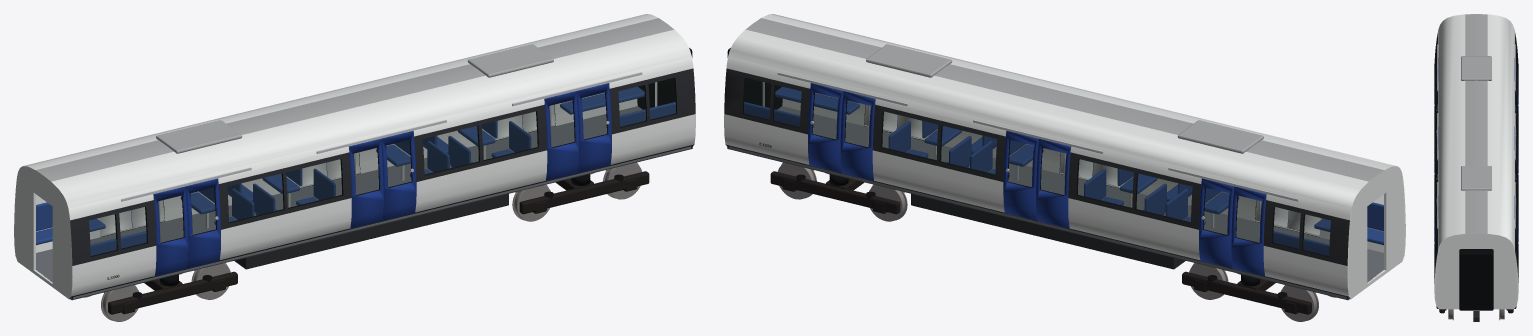
Rendered from mf77_car.glb.
3 renders of one model, left to right at view 1: azimuth 30°, elevation 25°; view 2: azimuth 150°, elevation 25°; view 3: azimuth 270°, elevation 25°, orthographic. The views are drawn at different scales.
Parts seen in each view (by area): view 1: METRO_MF77_IDFM-5voit_V2_Caisse, METRO_MF77_IDFM-5voit_V2_BaieG1, METRO_MF77_IDFM-5voit_V2_PorteD1_AV.002 (×3), METRO_MF77_IDFM-5voit_V2_PorteD1_AR.002 (×3), METRO_MF77_IDFM-5voit_V2_PorteD2_AR_Vitre, METRO_MF77_IDFM-5voit_V2_PorteD3_AV_Vitre, METRO_MF77_IDFM-5voit_V2_PorteD3_AR_Vitre, METRO_MF77_IDFM-5voit_V2_PorteD2_AV_Vitre, METRO_MF77_IDFM-5voit_V2_PorteD1_AV_Vitre, METRO_MF77_IDFM-5voit_V2_PorteD1_AR_Vitre, METRO_MF77_IDFM-5voit_V2_PorteG1_AR.002; view 2: METRO_MF77_IDFM-5voit_V2_Caisse, METRO_MF77_IDFM-5voit_V2_BaieG1, METRO_MF77_IDFM-5voit_V2_PorteG1_AV.002 (×3), METRO_MF77_IDFM-5voit_V2_PorteG1_AR.002 (×3), METRO_MF77_IDFM-5voit_V2_PorteG2_AR_Vitre, METRO_MF77_IDFM-5voit_V2_PorteG3_AV_Vitre, METRO_MF77_IDFM-5voit_V2_PorteG3_AR_Vitre, METRO_MF77_IDFM-5voit_V2_PorteG2_AV_Vitre, METRO_MF77_IDFM-5voit_V2_PorteG1_AV_Vitre, METRO_MF77_IDFM-5voit_V2_PorteG1_AR_Vitre, METRO_MF77_IDFM-5voit_V2_PorteD1_AR.002; view 3: METRO_MF77_IDFM-5voit_V2_Caisse, METRO_MF77_IDFM-5voit_V2_PorteG1_AR.002 (×3), METRO_MF77_IDFM-5voit_V2_PorteD1_AR.002 (×3), METRO_MF77_IDFM-5voit_V2_BaieG1, METRO_MF77_IDFM-5voit_V2_PorteD1_AV.002, METRO_MF77_IDFM-5voit_V2_PorteG1_AV.002.
Boxes of the visible parts, bbox=[...] form: METRO_MF77_IDFM-5voit_V2_Caisse: bbox=[14, 14, 695, 321]; METRO_MF77_IDFM-5voit_V2_BaieG1: bbox=[36, 78, 676, 255]; METRO_MF77_IDFM-5voit_V2_PorteD1_AV.002 (×3): bbox=[185, 83, 611, 268]; METRO_MF77_IDFM-5voit_V2_PorteD1_AR.002 (×3): bbox=[153, 91, 579, 276]; METRO_MF77_IDFM-5voit_V2_PorteD2_AR_Vitre: bbox=[354, 148, 378, 194]; METRO_MF77_IDFM-5voit_V2_PorteD3_AV_Vitre: bbox=[191, 188, 215, 234]; METRO_MF77_IDFM-5voit_V2_PorteD3_AR_Vitre: bbox=[158, 196, 183, 242]; METRO_MF77_IDFM-5voit_V2_PorteD2_AV_Vitre: bbox=[386, 140, 410, 186]; METRO_MF77_IDFM-5voit_V2_PorteD1_AV_Vitre: bbox=[582, 92, 606, 139]; METRO_MF77_IDFM-5voit_V2_PorteD1_AR_Vitre: bbox=[549, 100, 574, 146]; METRO_MF77_IDFM-5voit_V2_PorteG1_AR.002: bbox=[99, 210, 132, 236]; METRO_MF77_IDFM-5voit_V2_Caisse: bbox=[724, 14, 1405, 321]; METRO_MF77_IDFM-5voit_V2_BaieG1: bbox=[743, 78, 1383, 255]; METRO_MF77_IDFM-5voit_V2_PorteG1_AV.002 (×3): bbox=[808, 83, 1234, 268]; METRO_MF77_IDFM-5voit_V2_PorteG1_AR.002 (×3): bbox=[840, 91, 1266, 276]; METRO_MF77_IDFM-5voit_V2_PorteG2_AR_Vitre: bbox=[1041, 148, 1065, 194]; METRO_MF77_IDFM-5voit_V2_PorteG3_AV_Vitre: bbox=[1204, 188, 1228, 234]; METRO_MF77_IDFM-5voit_V2_PorteG3_AR_Vitre: bbox=[1236, 196, 1261, 242]; METRO_MF77_IDFM-5voit_V2_PorteG2_AV_Vitre: bbox=[1009, 140, 1033, 186]; METRO_MF77_IDFM-5voit_V2_PorteG1_AV_Vitre: bbox=[813, 92, 837, 139]; METRO_MF77_IDFM-5voit_V2_PorteG1_AR_Vitre: bbox=[845, 100, 870, 146]; METRO_MF77_IDFM-5voit_V2_PorteD1_AR.002: bbox=[1287, 210, 1320, 236]; METRO_MF77_IDFM-5voit_V2_Caisse: bbox=[1434, 14, 1518, 321]; METRO_MF77_IDFM-5voit_V2_PorteG1_AR.002 (×3): bbox=[1514, 58, 1518, 241]; METRO_MF77_IDFM-5voit_V2_PorteD1_AR.002 (×3): bbox=[1434, 58, 1438, 241]; METRO_MF77_IDFM-5voit_V2_BaieG1: bbox=[1436, 104, 1516, 204]; METRO_MF77_IDFM-5voit_V2_PorteD1_AV.002: bbox=[1434, 69, 1438, 132]; METRO_MF77_IDFM-5voit_V2_PorteG1_AV.002: bbox=[1514, 69, 1518, 132].
Bounding box in the file's own units: 15.55 × 3.49 × 2.47.
5 materials, 5 textured.
